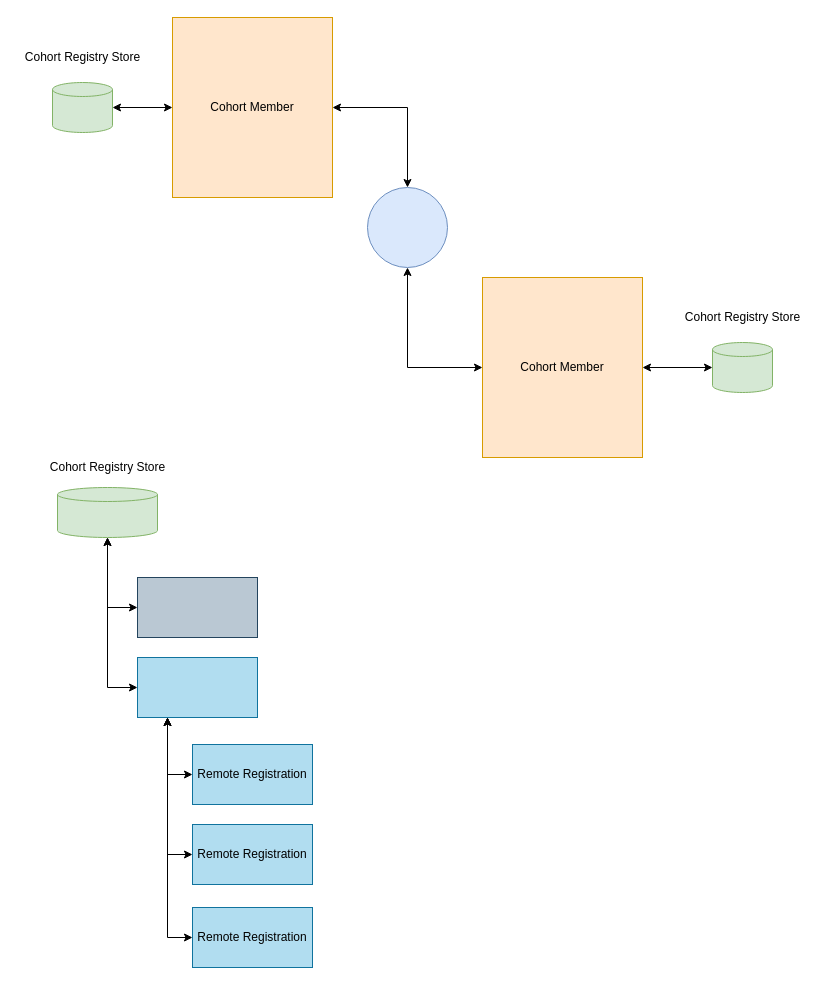
The diagram is 824 pixels wide and 985 high, and some of its shapes have lost their labels. Here are the shapes that lost their labels. From the top down, the centre of each, then its label:
At [407,227]: "Cohort Topic(s)".
At [197,607]: "Local Registration".
At [197,687]: "Remote Registrations".
